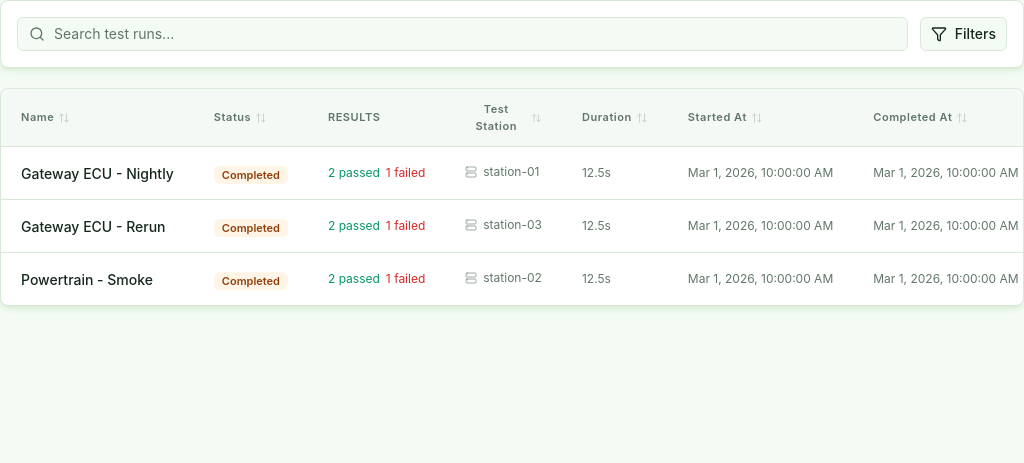
the run list › shows the location the server answered for, and only that one
Check: the link "Powertrain - Smoke" is shown, box 21,271 -> 153,288
Click the button "Filters" at (963, 34), box 920,17 -> 1007,51
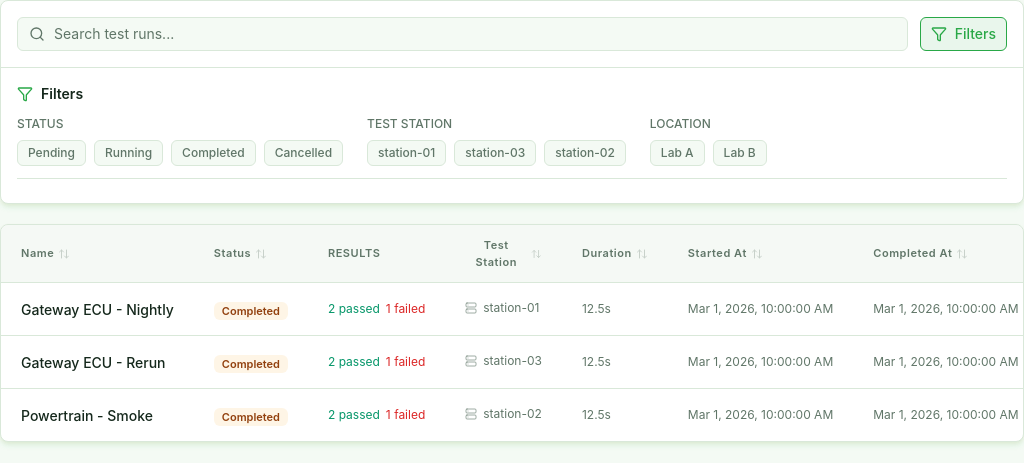
Click the button "Lab B" at (740, 153), box 713,140 -> 767,166
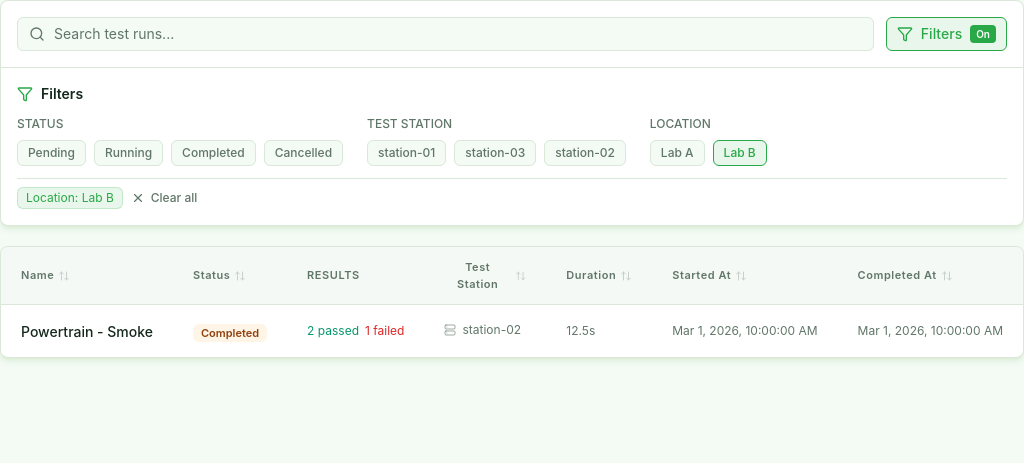
Check: the button "Lab B" is shown, box 713,140 -> 767,166
Check: the link "Gateway ECU - Nightly" is gone
Check: the link "Gateway ECU - Rerun" is gone
